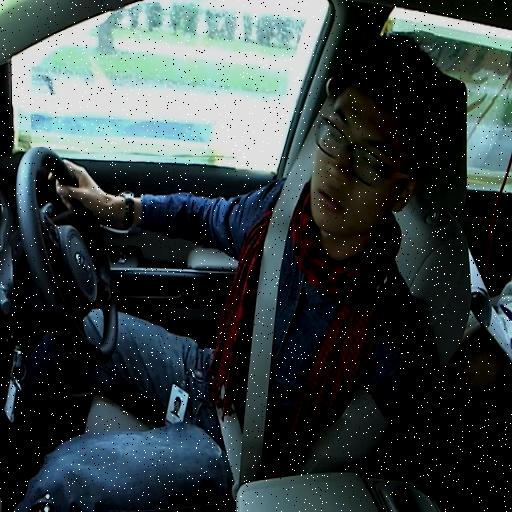turning: (28, 33, 454, 440)
